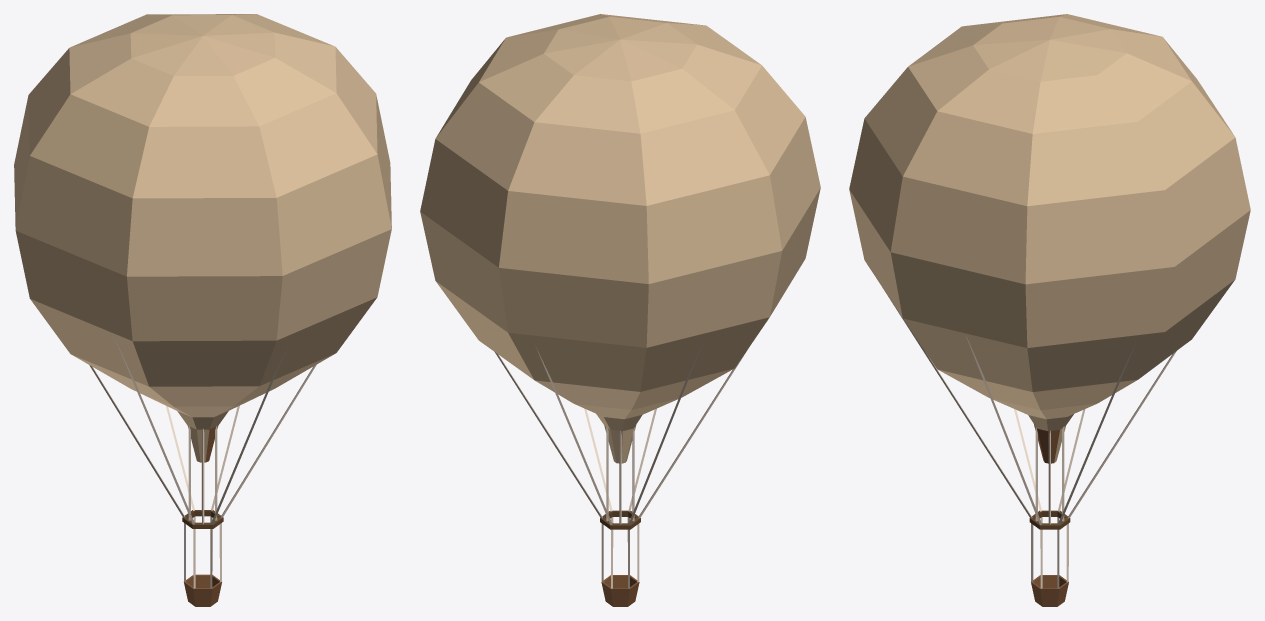
Rendered from zulu-balloon-spotter.glb.
3 views of the same model, side by side, from view 1: azimuth 30°, elevation 25°; view 2: azimuth 150°, elevation 25°; view 3: azimuth 270°, elevation 25° (orthographic).
Parts seen in each view (by area): view 1: balloon-spotter; view 2: balloon-spotter; view 3: balloon-spotter.
Boxes of the visible parts, x1,y1,x2,y2 form: balloon-spotter: (14,14,391,606); balloon-spotter: (420,14,820,606); balloon-spotter: (849,14,1250,606).
Size of the model in its own units: 11.91 by 18.38 by 11.91.
